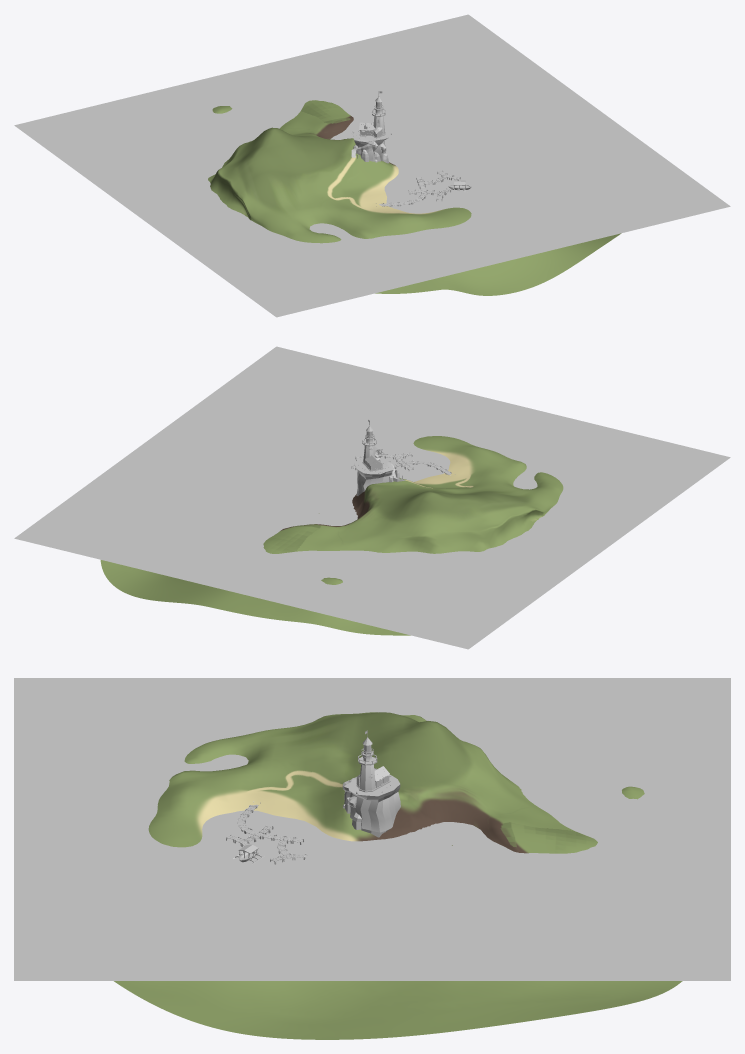
The model's file is island.fbx.
3 views of the same model, one above another, from view 1: azimuth 30°, elevation 25°; view 2: azimuth 150°, elevation 25°; view 3: azimuth 270°, elevation 25° (orthographic). The views are drawn at different scales.
Parts seen in each view (by area): view 1: Plane.001, island, cliff, lighthouse; view 2: Plane.001, island, cliff, lighthouse; view 3: Plane.001, island, cliff, lighthouse.
Boxes of the visible parts, x1,y1,x2,y2 form: Plane.001: (14,14,730,317); island: (208,100,621,295); cliff: (350,127,392,163); lighthouse: (359,91,385,136); Plane.001: (14,346,730,649); island: (100,436,563,635); cliff: (354,458,405,495); lighthouse: (362,420,383,471); Plane.001: (14,678,730,980); island: (114,712,682,1039); cliff: (342,775,400,837); lighthouse: (358,730,390,792).
Size of the model in its own units: 19161 by 19161 by 4993.
